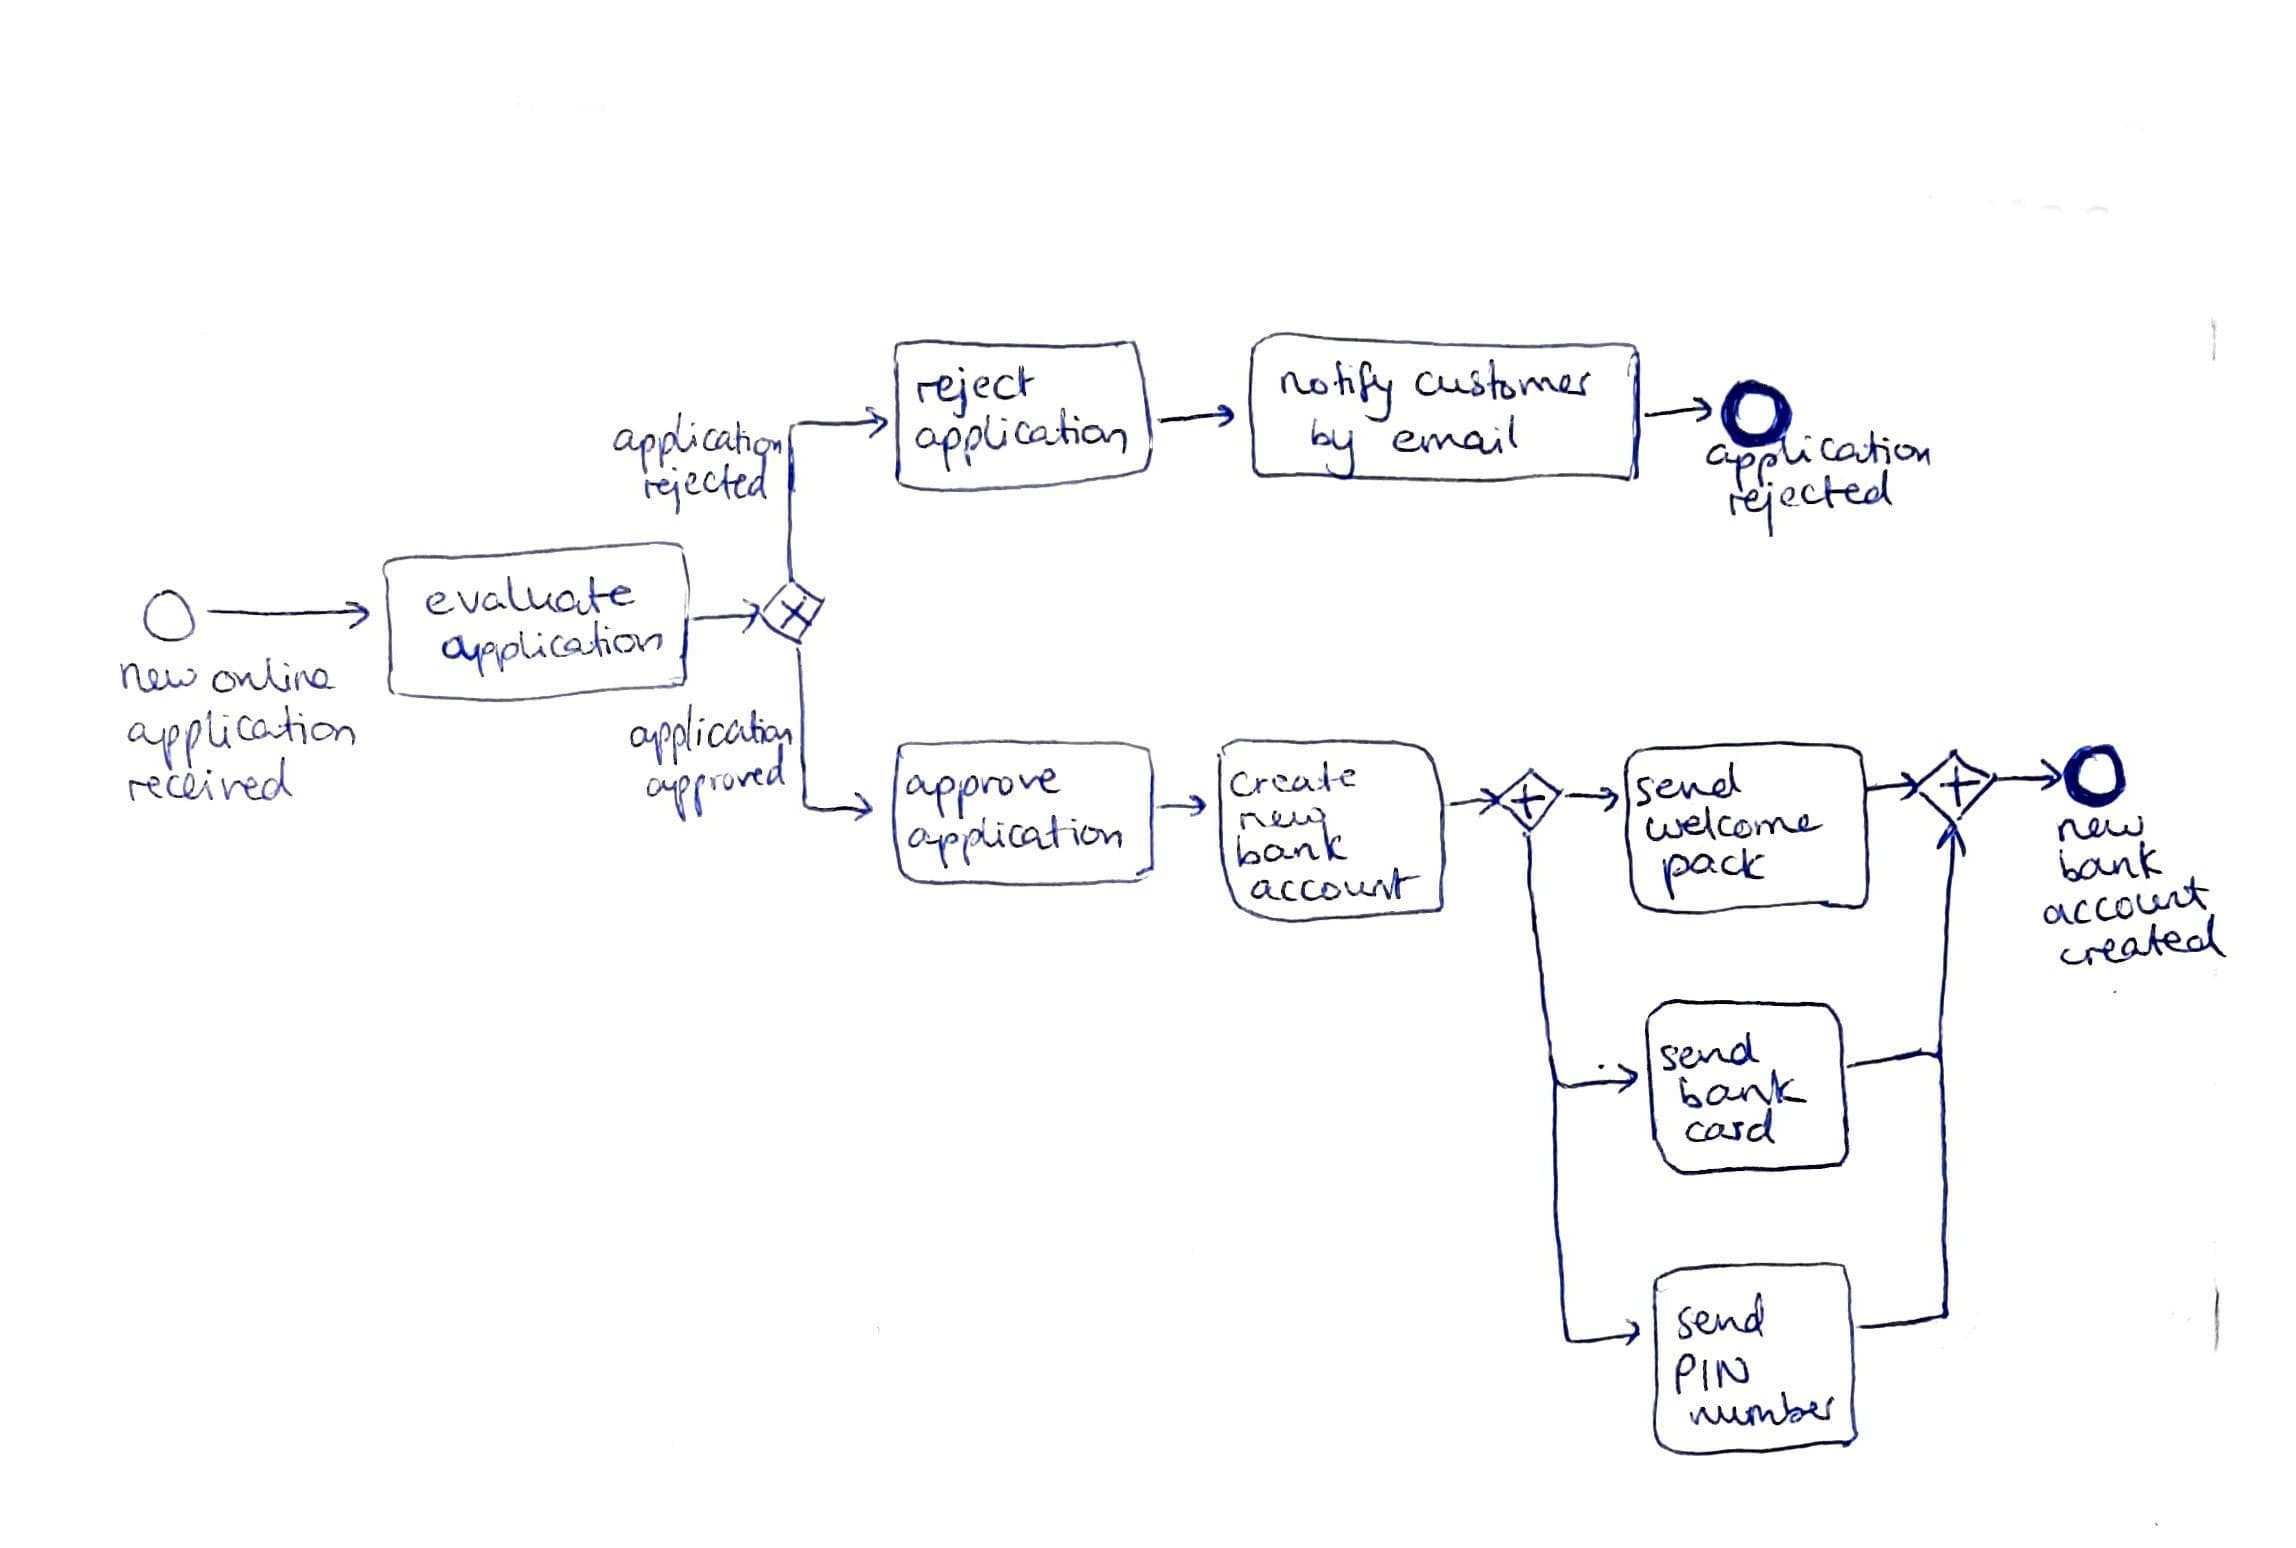PIN: (1671, 1348, 1752, 1396)
account: (2033, 885, 2215, 942), (1247, 867, 1425, 904)
application: (123, 696, 356, 762), (1691, 428, 1933, 482), (912, 408, 1132, 466), (904, 814, 1126, 871), (627, 696, 800, 765), (442, 622, 667, 674), (606, 411, 784, 470)
approve: (905, 757, 1062, 817)
approved: (637, 764, 791, 829)
bank: (1671, 1069, 1807, 1118), (1230, 828, 1349, 878), (2059, 843, 2166, 888)
by: (1310, 420, 1377, 473)
card: (1678, 1111, 1779, 1158)
create: (1228, 762, 1363, 802)
created: (2051, 928, 2230, 987)
customer: (1411, 352, 1596, 409)
email: (1391, 411, 1524, 465)
evaluate: (427, 572, 639, 622)
new: (100, 651, 211, 698), (2047, 810, 2153, 847), (1237, 798, 1335, 833)
notify: (1272, 354, 1406, 425)
number: (1686, 1391, 1847, 1436)
online: (206, 651, 335, 698)
pack: (1659, 845, 1769, 905)
received: (119, 764, 301, 814)
reject: (909, 361, 1038, 416)
rejected: (1724, 472, 1897, 541), (632, 460, 774, 522)
send: (1633, 760, 1750, 812), (1671, 1292, 1776, 1342), (1657, 1035, 1762, 1076)
welcome: (1640, 803, 1828, 848)
